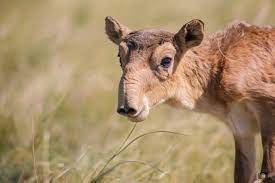saiga: (103, 15, 275, 183)
